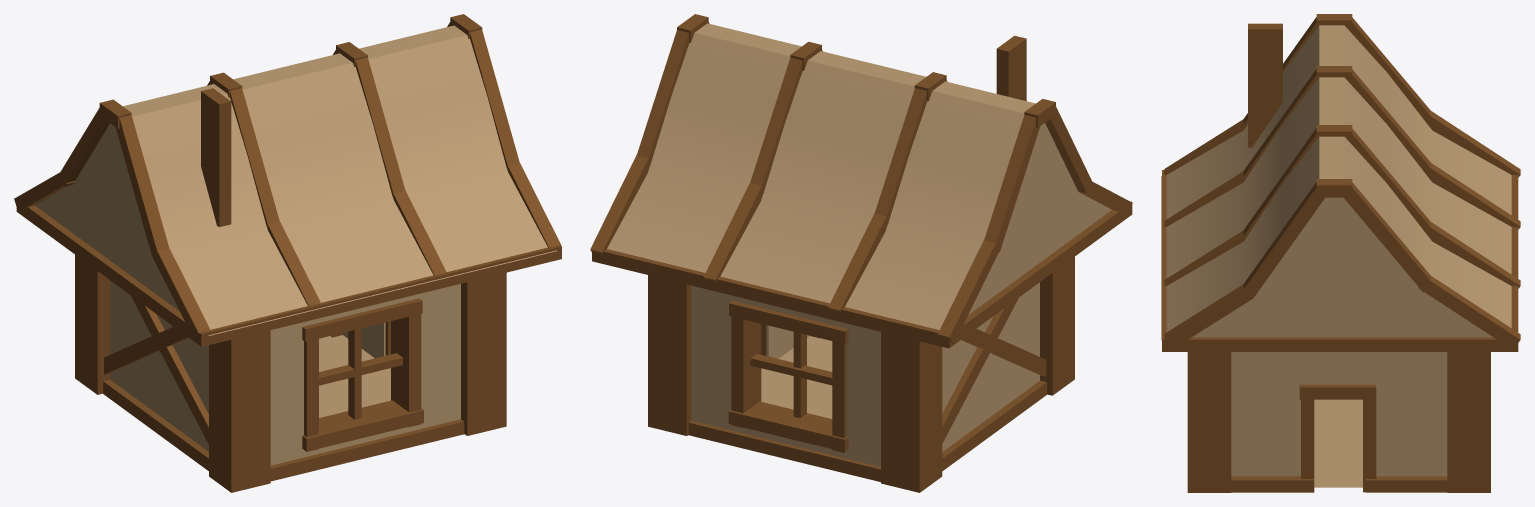
The model's file is BasicHouse4.fbx.
3 renders of one model, left to right at view 1: azimuth 30°, elevation 25°; view 2: azimuth 150°, elevation 25°; view 3: azimuth 270°, elevation 25°, orthographic. The views are drawn at different scales.
Parts seen in each view (by area): view 1: Cube.005, Cube.001, poutre.002, poutre.046, poutre.004, Cube.002, poutre, poutre.047, poutre.003, Plane, poutre.011, poutre.013 (+18 smaller); view 2: Cube.005, Cube, poutre, poutre.046, Cube.002, poutre.001, poutre.002, poutre.005, poutre.016, Plane, poutre.014, poutre.042 (+18 smaller); view 3: Cube.005, Cube.003, poutre.046, poutre.004, poutre.001, Plane, poutre.047, poutre.007, poutre.026, poutre.027, poutre.029, poutre.028 (+19 smaller).
Boxes of the visible parts, x1=… form: Cube.005: x1=35, y1=25, x2=556, y2=335; Cube.001: x1=270, y1=284, x2=460, y2=465; poutre.002: x1=209, y1=330, x2=270, y2=492; poutre.046: x1=16, y1=205, x2=561, y2=346; poutre.004: x1=461, y1=272, x2=506, y2=435; Cube.002: x1=110, y1=280, x2=208, y2=451; poutre: x1=75, y1=255, x2=110, y2=394; poutre.047: x1=201, y1=88, x2=231, y2=227; poutre.003: x1=270, y1=419, x2=464, y2=481; Plane: x1=319, y1=335, x2=390, y2=417; poutre.011: x1=302, y1=400, x2=423, y2=451; poutre.013: x1=391, y1=314, x2=421, y2=427; Cube.005: x1=607, y1=23, x2=1111, y2=329; Cube: x1=691, y1=285, x2=880, y2=466; poutre: x1=881, y1=332, x2=942, y2=492; poutre.046: x1=592, y1=201, x2=1132, y2=348; Cube.002: x1=942, y1=282, x2=1039, y2=451; poutre.001: x1=648, y1=275, x2=691, y2=435; poutre.002: x1=1040, y1=257, x2=1074, y2=395; poutre.005: x1=688, y1=420, x2=880, y2=481; poutre.016: x1=728, y1=401, x2=848, y2=452; Plane: x1=761, y1=336, x2=832, y2=418; poutre.014: x1=731, y1=316, x2=761, y2=427; poutre.042: x1=984, y1=114, x2=1040, y2=251; Cube.005: x1=1161, y1=25, x2=1511, y2=340; Cube.003: x1=1231, y1=352, x2=1447, y2=476; poutre.046: x1=1162, y1=170, x2=1518, y2=351; poutre.004: x1=1187, y1=352, x2=1231, y2=492; poutre.001: x1=1447, y1=352, x2=1490, y2=492; Plane: x1=1314, y1=399, x2=1362, y2=487; poutre.047: x1=1248, y1=23, x2=1282, y2=147; poutre.007: x1=1231, y1=476, x2=1447, y2=492; poutre.026: x1=1243, y1=182, x2=1324, y2=296; poutre.027: x1=1418, y1=276, x2=1520, y2=349; poutre.029: x1=1344, y1=182, x2=1430, y2=292; poutre.028: x1=1164, y1=284, x2=1253, y2=349.
Bounding box in the file's own units: 1862 × 1774 × 1648.
